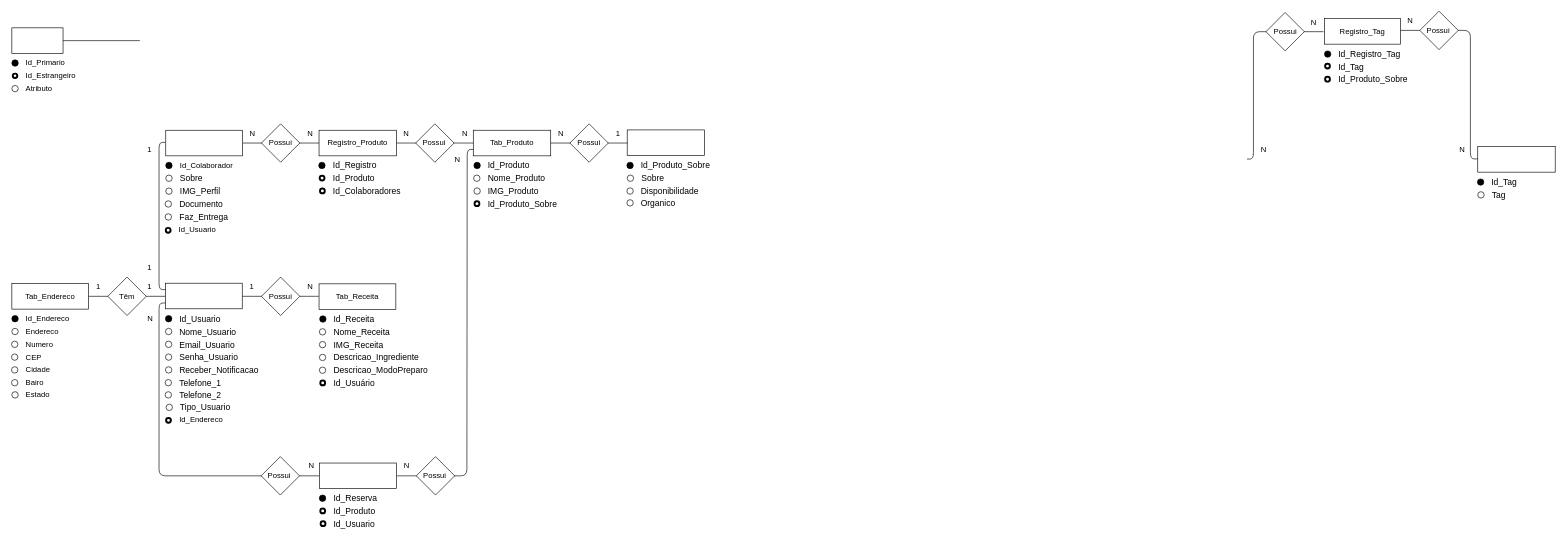
The diagram is 1566 pixels wide and 540 high, and some of its shapes have lost their labels. The centre of each missing label's shape, as x and y in pixels:
"Reserva_Produto" belongs at (x=357, y=475).
"Tab_Colaborador" belongs at (x=204, y=143).
"Tab_Produto_Sobre" belongs at (x=666, y=142).
"Tab_Tag" belongs at (x=1516, y=159).
"Tab_Usuario" belongs at (x=203, y=296).
